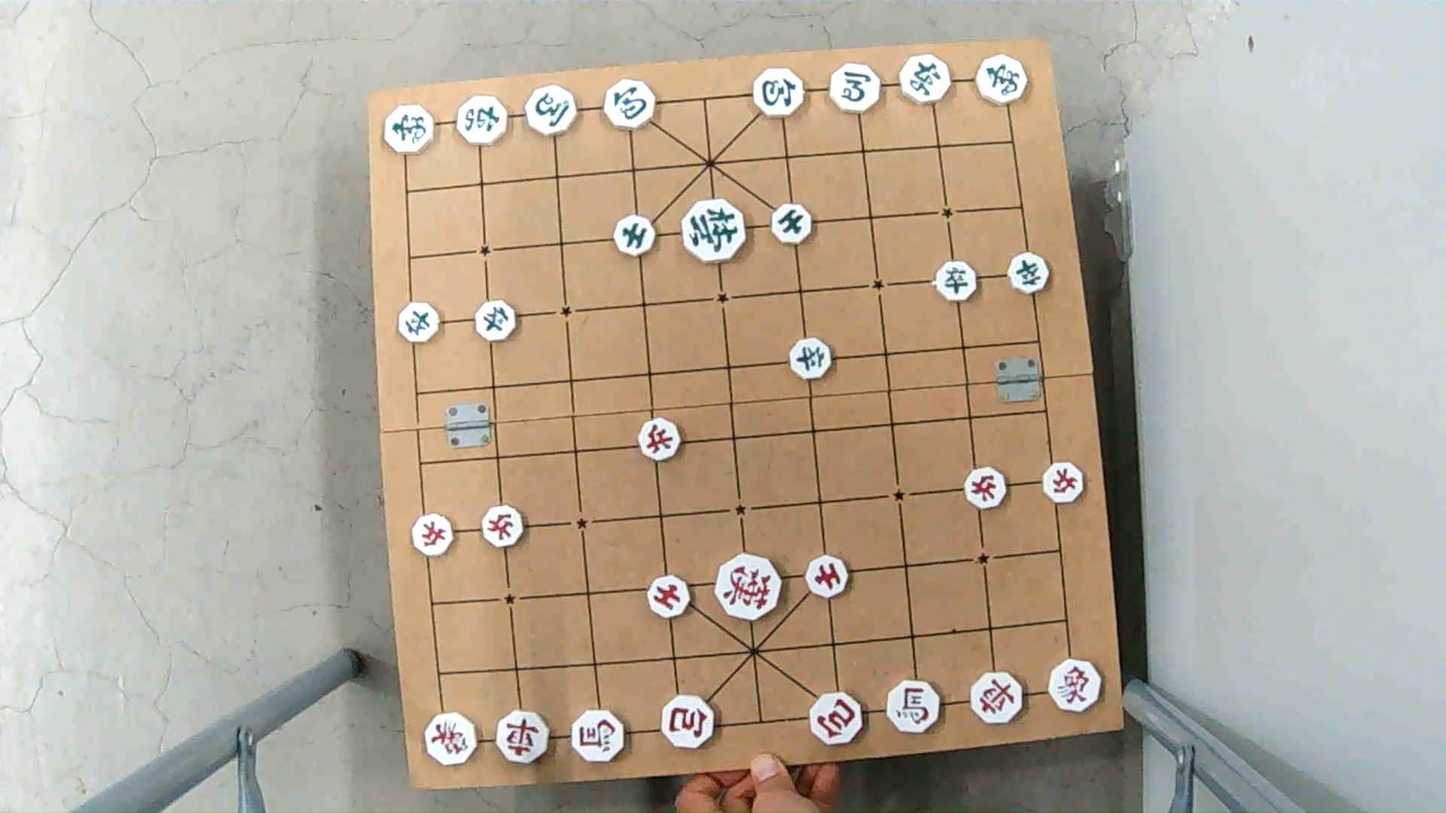cha_green: (897, 55, 952, 101), (456, 97, 511, 142)
cha_red: (493, 714, 552, 764), (969, 675, 1027, 724)
jol_green: (787, 341, 834, 379), (473, 304, 522, 340), (1006, 254, 1052, 292), (934, 263, 981, 300), (397, 306, 443, 342)
jol_red: (635, 418, 685, 460), (960, 468, 1010, 505), (410, 517, 456, 556), (1039, 465, 1086, 503), (479, 507, 526, 544)
ma_green: (524, 90, 581, 136), (828, 67, 884, 112)
ma_red: (574, 711, 627, 761), (889, 684, 941, 732)
po_green: (601, 82, 660, 127), (749, 69, 808, 114)
po_red: (656, 697, 715, 748), (806, 696, 865, 744)
sa_green: (613, 218, 660, 254), (773, 205, 819, 240)
sa_red: (645, 577, 695, 616), (802, 559, 851, 596)
sang_green: (381, 107, 437, 153), (976, 57, 1030, 104)
sang_red: (1045, 659, 1105, 708), (424, 715, 477, 767)
wang_green: (682, 202, 749, 255)
wang_red: (714, 561, 785, 619)
